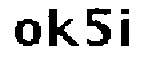5: (83, 7, 115, 49)
i: (117, 6, 136, 47)
k: (45, 7, 80, 49)
o: (13, 18, 44, 49)
